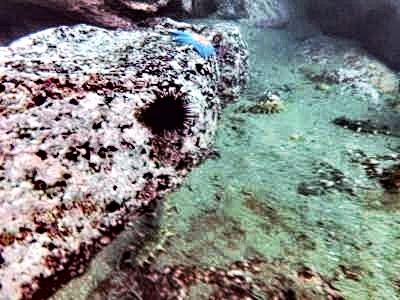urchin: (142, 87, 194, 133)
